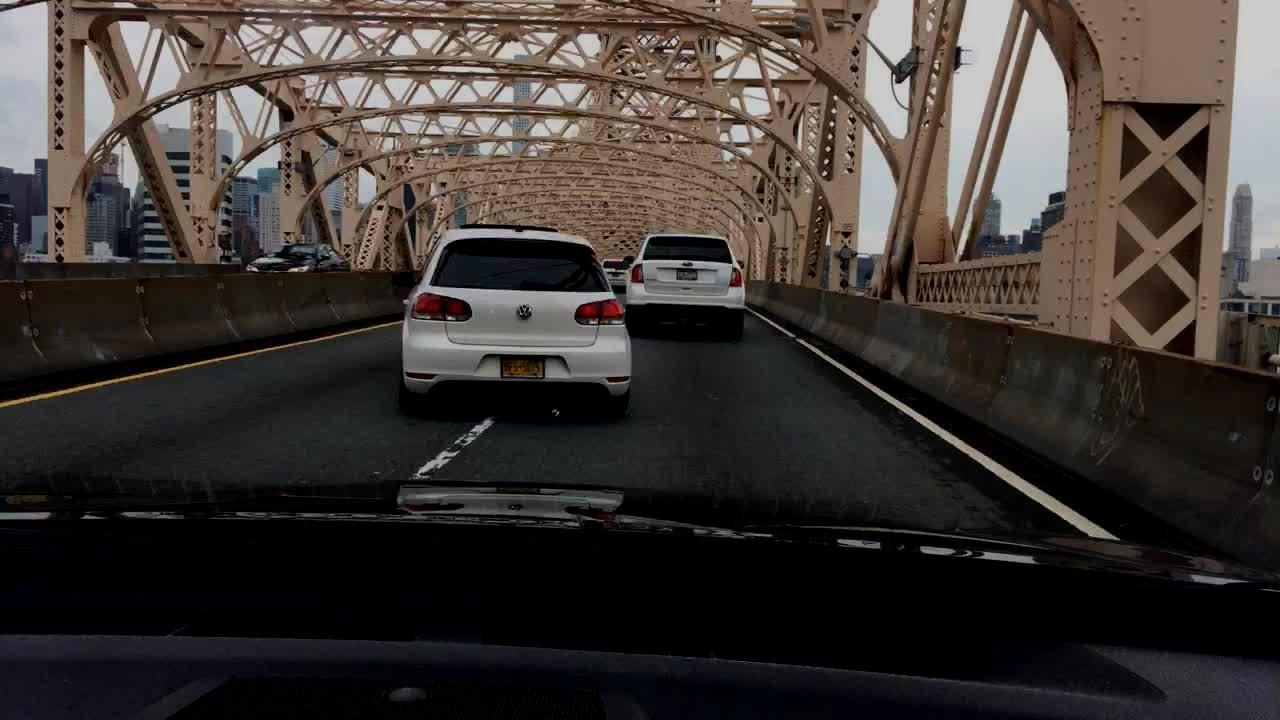Volkswagen: (509, 295, 538, 328)
